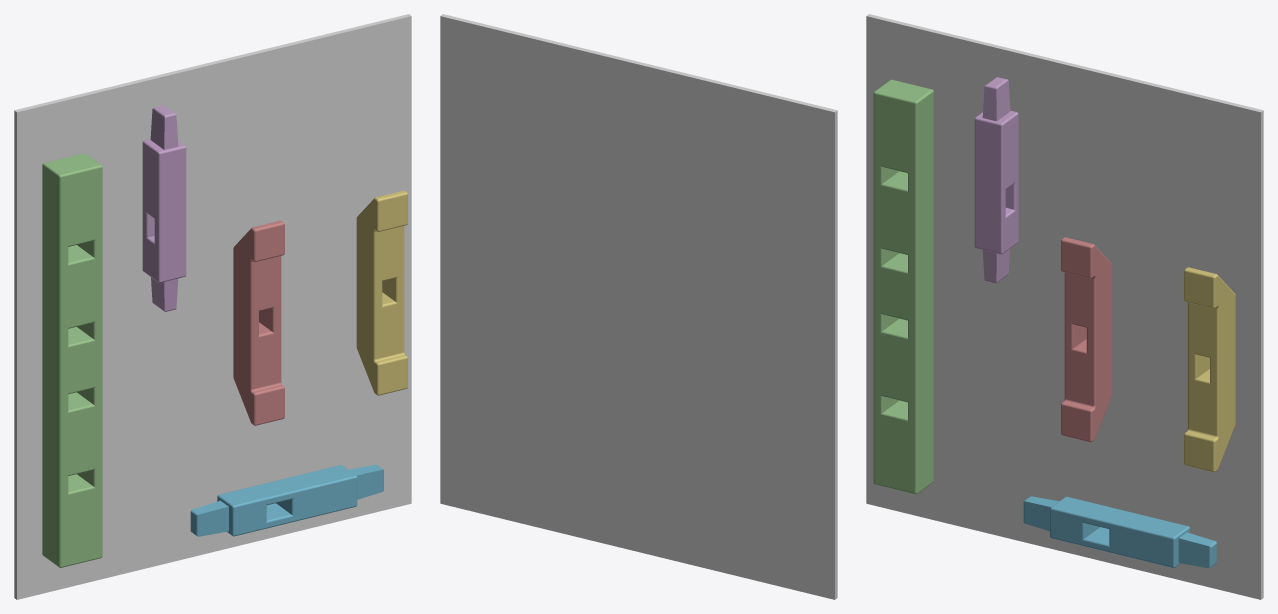
Rendered from pickup_layout.glb.
3 renders of one model, left to right at view 1: azimuth 30°, elevation 25°; view 2: azimuth 150°, elevation 25°; view 3: azimuth 330°, elevation 25°, orthographic.
Visible parts, largest first — view 1: world, 6.obj, 0.obj, 1.obj, 2.obj, 3.obj; view 2: world; view 3: world, 6.obj, 1.obj, 0.obj, 2.obj, 3.obj.
Boxes of the visible parts, x1,y1,x2,y2 form: world: (14,14,411,599); 6.obj: (42,153,102,567); 0.obj: (233,220,284,425); 1.obj: (356,190,407,395); 2.obj: (190,464,383,536); 3.obj: (142,105,186,311); world: (440,14,837,599); world: (866,14,1263,599); 6.obj: (873,79,933,494); 1.obj: (1184,267,1235,472); 0.obj: (1061,237,1112,442); 2.obj: (1023,496,1216,568); 3.obj: (974,77,1018,283).
Bounding box in the file's own units: 16.02 × 18.91 × 1.72.
